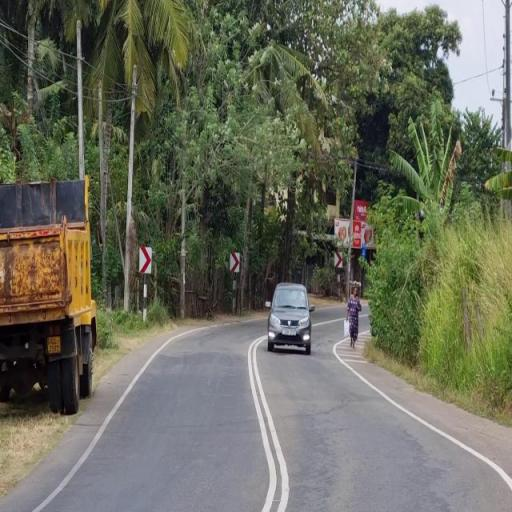double_white_line: (246, 332, 290, 512)
